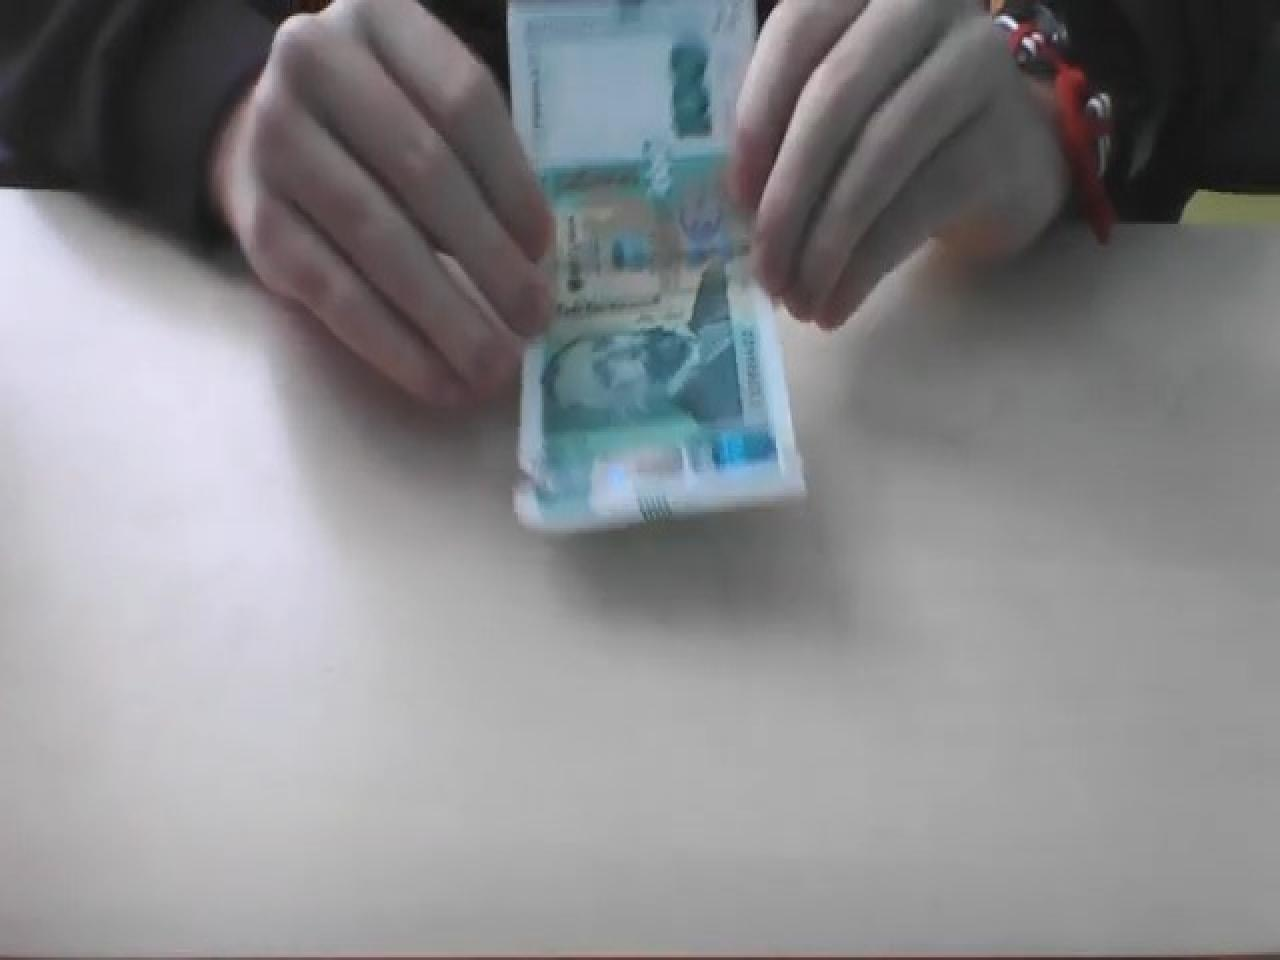100leva: (500, 0, 810, 542)
